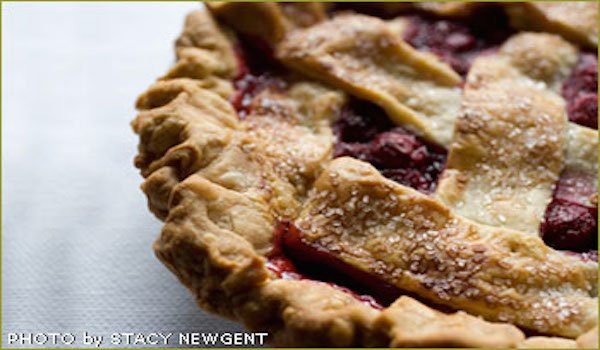sandwich: (129, 2, 597, 343)
